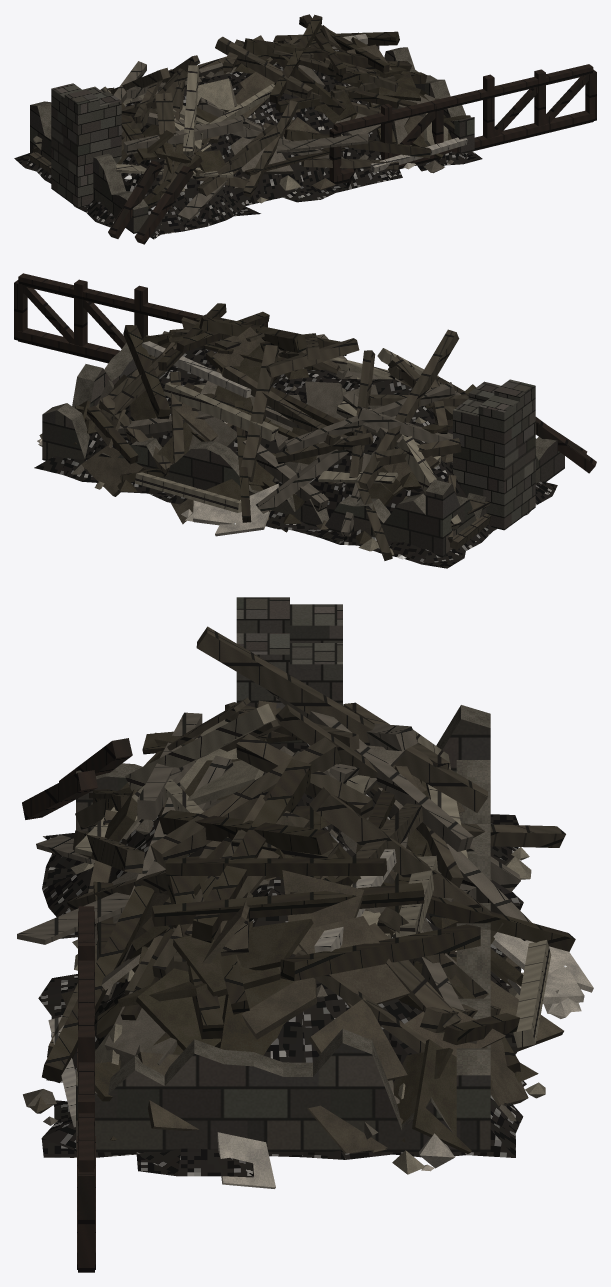
Rendered from AraHut01a.glb.
The picture shows the model from 3 angles, top to bottom: view 1: azimuth 30°, elevation 25°; view 2: azimuth 150°, elevation 25°; view 3: azimuth 270°, elevation 25°; orthographic projection. The views are drawn at different scales.
Parts seen in each view (by area): view 1: AraHut01a_swall; view 2: AraHut01a_swall; view 3: AraHut01a_swall.
Boxes of the visible parts, box(x1,y1,x2,y2) form: AraHut01a_swall: box(14, 14, 596, 244); AraHut01a_swall: box(14, 273, 596, 568); AraHut01a_swall: box(17, 597, 593, 1272).
Bounding box in the file's own units: 10.63 × 2.91 × 5.42.
Materials: 16 (16 with a texture image).
